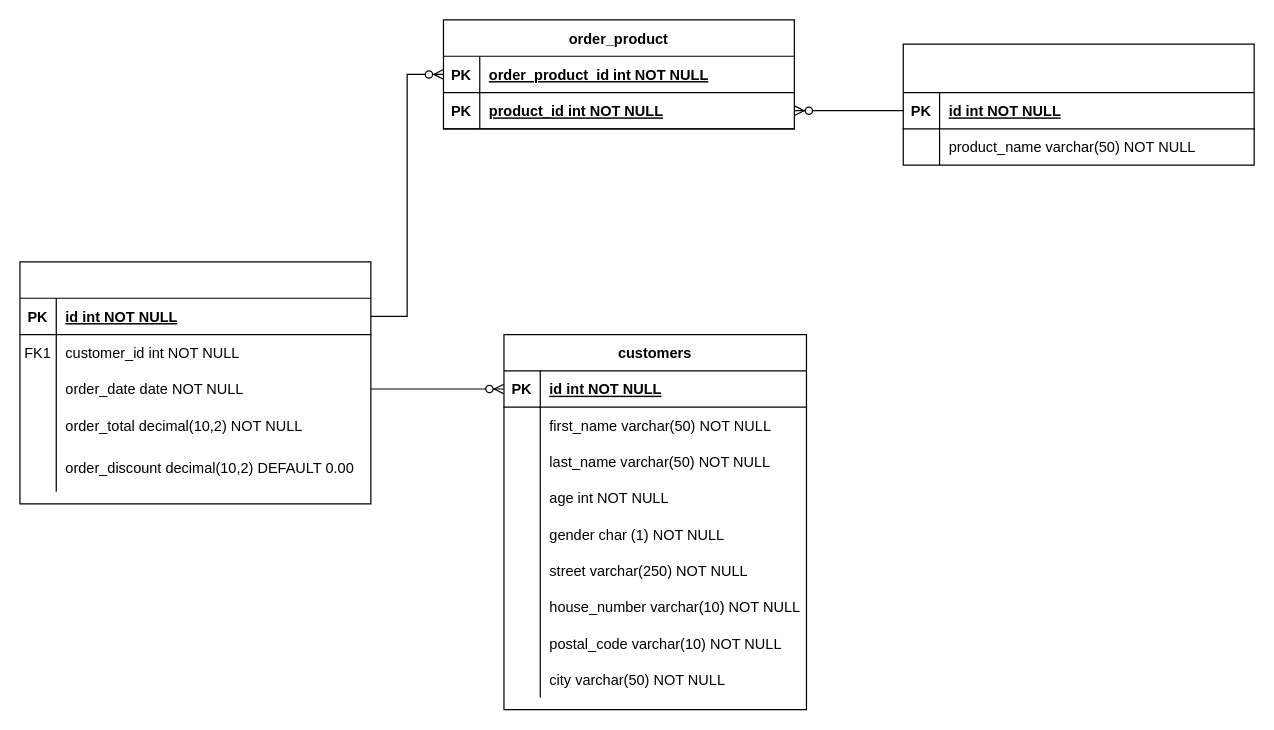
Image size: 1274x730. Some labels were removed from this diagram. Here are the shapes that lost their labels. From the top down, the box of each, then its label:
(902, 43, 1254, 165): products
(19, 261, 371, 504): orders
